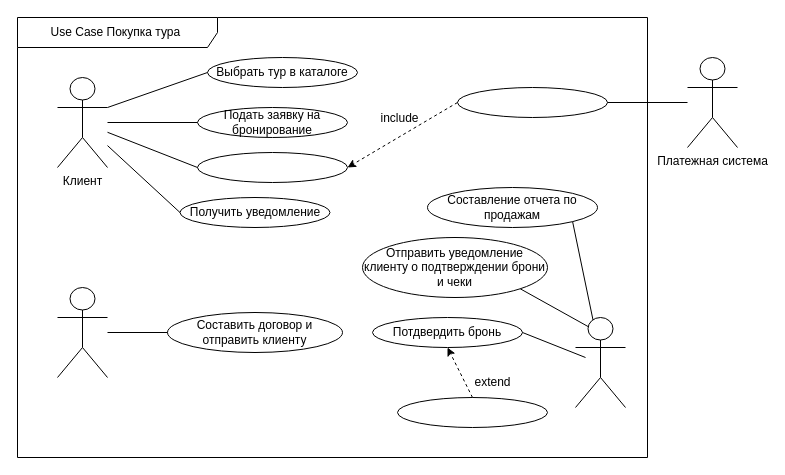
The diagram is 785 pixels wide and 475 high, and some of its shapes have lost their labels. Each missing label, with the box of its shape:
Обработать оплату: (456, 86, 608, 118)
Оплатить согласно договору: (196, 152, 348, 182)
Получить оплату: (396, 396, 548, 428)
Турагент: (56, 286, 108, 378)
Туроператор: (574, 316, 626, 408)
